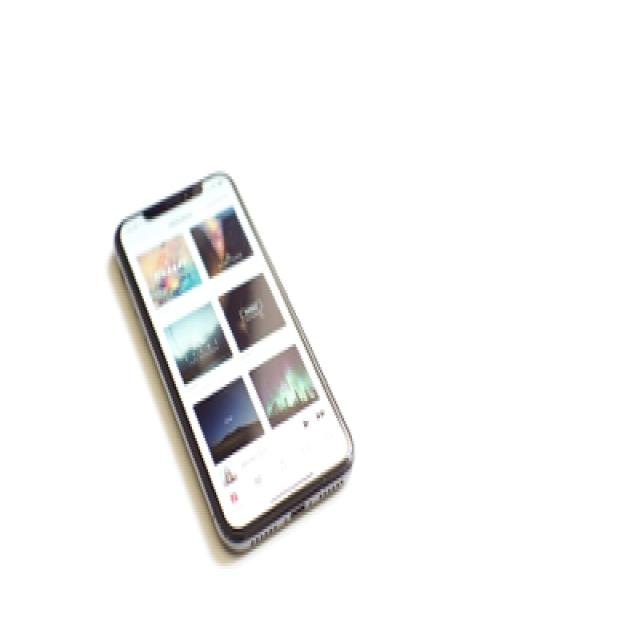cellphone: (112, 168, 355, 554)
